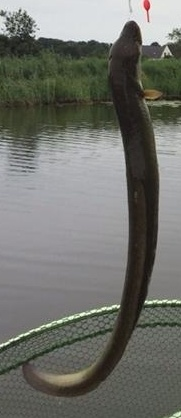Anguilla anguilla: (20, 20, 161, 398)
